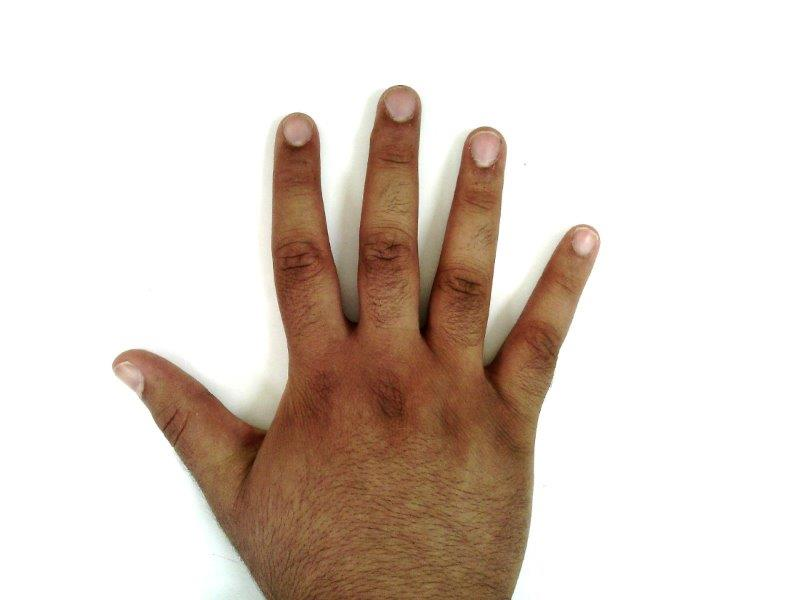hand: (112, 85, 601, 589)
